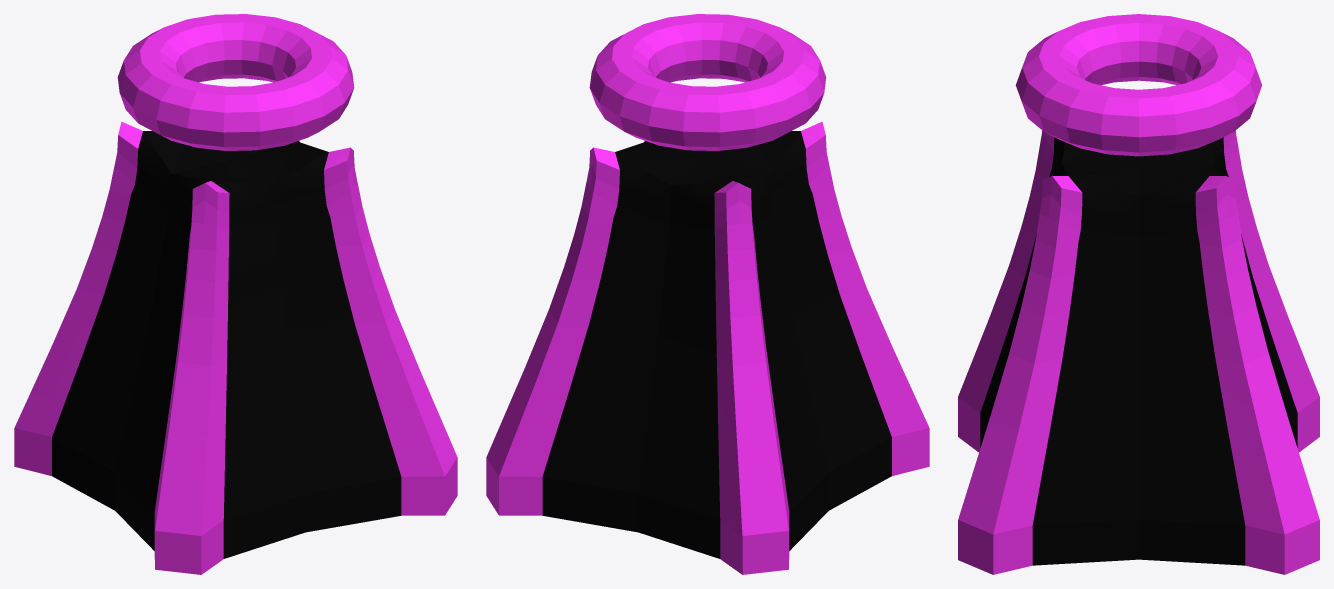
Rendered from smallTower.fbx.
The picture shows the model from 3 angles, left to right: view 1: azimuth 30°, elevation 25°; view 2: azimuth 150°, elevation 25°; view 3: azimuth 270°, elevation 25°; orthographic projection. The views are drawn at different scales.
Parts seen in each view (by area): view 1: Tower; view 2: Tower; view 3: Tower.
Part boxes in pixels (x1,y1,x2,y2): Tower: (14, 14, 457, 574); Tower: (486, 14, 929, 574); Tower: (958, 14, 1319, 574).
Bounding box in the file's own units: 4.52 × 6.1 × 4.52.
Materials: 1 (1 with a texture image).
